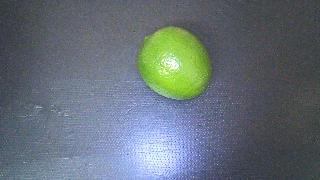EXPORTACION: (137, 27, 212, 100)
